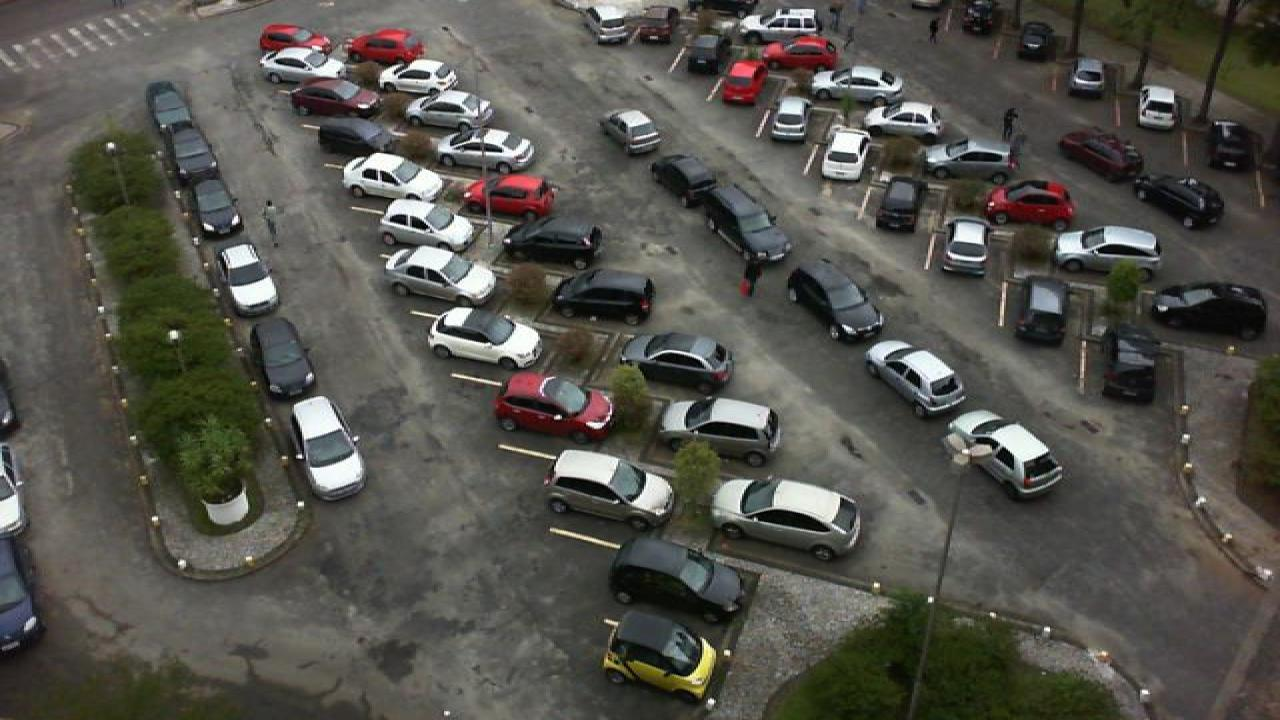Car: (708, 476, 868, 559), (604, 536, 748, 624), (940, 408, 1068, 500), (540, 446, 676, 530), (596, 609, 720, 701), (490, 371, 616, 447), (658, 395, 786, 467), (784, 255, 886, 342), (288, 394, 368, 503), (862, 338, 970, 418), (422, 305, 546, 370), (616, 331, 738, 395), (700, 187, 794, 266), (380, 245, 500, 305), (1148, 280, 1270, 339), (548, 268, 656, 324), (500, 217, 606, 272), (1052, 224, 1164, 276), (376, 197, 478, 254), (1128, 172, 1228, 228), (250, 316, 316, 397), (340, 152, 446, 201), (1054, 130, 1150, 184), (214, 242, 280, 317), (982, 179, 1076, 231), (432, 127, 536, 173), (1100, 323, 1158, 404), (464, 172, 556, 221), (922, 138, 1018, 182), (1012, 277, 1074, 344), (806, 64, 906, 105), (650, 153, 722, 207), (312, 116, 404, 157), (288, 76, 382, 116), (406, 88, 498, 128), (258, 45, 346, 84), (866, 100, 946, 141), (190, 178, 244, 237), (940, 216, 992, 277), (168, 120, 220, 179), (378, 56, 458, 94), (344, 28, 426, 65), (144, 80, 198, 134), (818, 127, 870, 182), (600, 110, 662, 156), (760, 36, 840, 71), (1208, 118, 1260, 170), (874, 177, 922, 233), (716, 58, 768, 108), (738, 8, 822, 37), (256, 22, 334, 53), (580, 1, 634, 44), (1134, 84, 1180, 133), (766, 97, 810, 144), (678, 34, 722, 77), (1066, 57, 1112, 97), (634, 5, 678, 42), (1014, 21, 1054, 61), (964, 0, 1000, 35)
